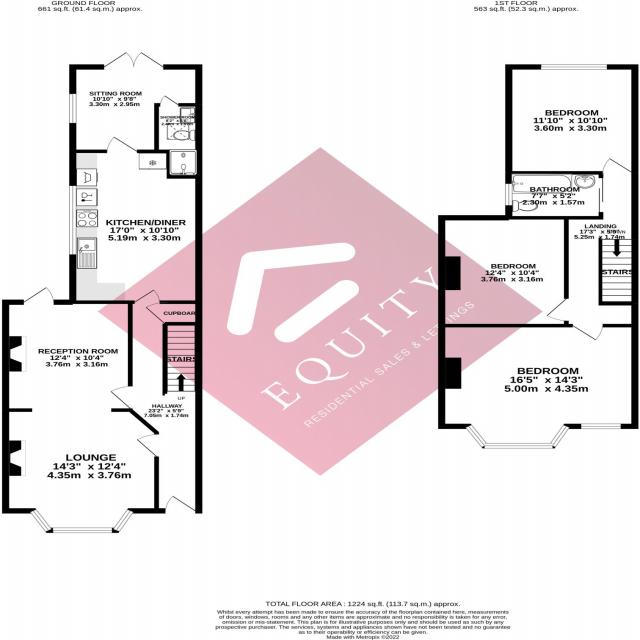DOOR: (21, 285, 55, 305), (164, 495, 197, 514), (545, 298, 569, 322), (109, 386, 133, 409), (572, 324, 604, 341), (601, 158, 633, 175), (106, 136, 138, 153), (136, 434, 159, 457), (133, 289, 161, 304), (159, 95, 180, 107)
DOUBLE DOOR: (99, 48, 172, 70)
ROOM: (2, 286, 159, 534), (438, 324, 639, 449), (69, 136, 203, 304), (505, 64, 639, 175), (438, 215, 569, 327), (69, 51, 203, 153)
WINDOW: (464, 424, 571, 449), (29, 508, 135, 533), (68, 185, 77, 255), (540, 64, 608, 70), (580, 423, 622, 430), (68, 93, 77, 124), (505, 183, 513, 206)
